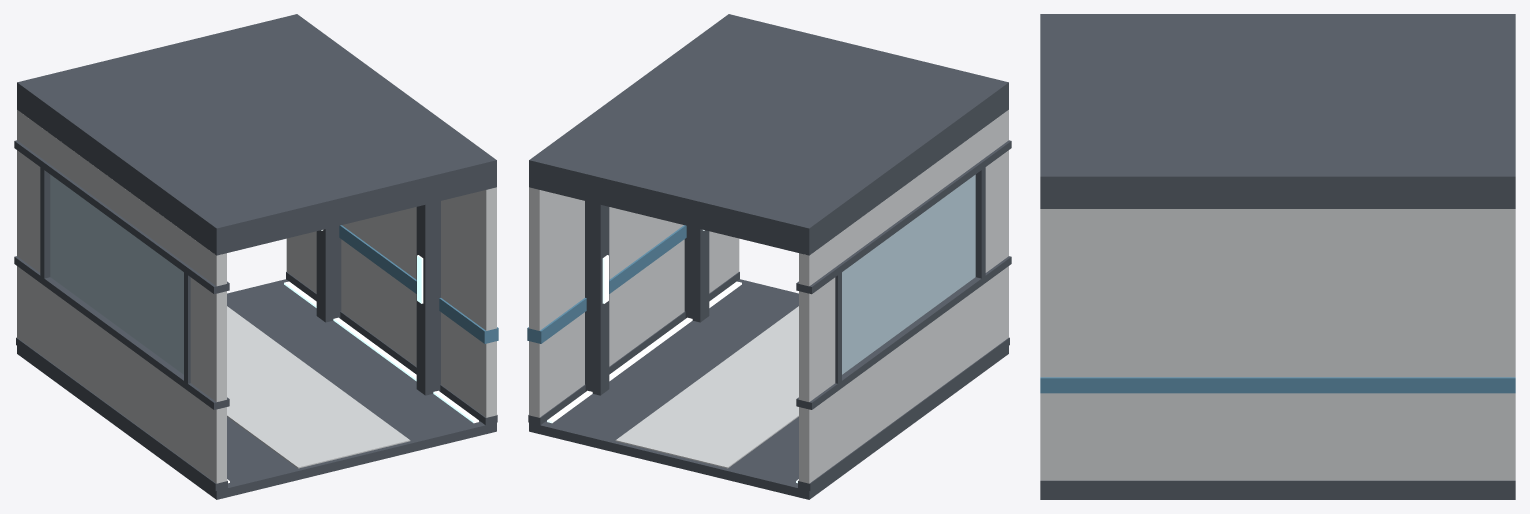
Rendered from spaceship-deck-kit-corridor-window-423a1226__12552.glb.
3 views of the same model, side by side, from view 1: azimuth 30°, elevation 25°; view 2: azimuth 150°, elevation 25°; view 3: azimuth 270°, elevation 25° (orthographic). The views are drawn at different scales.
Parts seen in each view (by area): view 1: corridor-window; view 2: corridor-window; view 3: corridor-window.
Boxes of the visible parts, x1=… form: corridor-window: x1=14, y1=14, x2=498, y2=499; corridor-window: x1=527, y1=14, x2=1011, y2=499; corridor-window: x1=1040, y1=14, x2=1515, y2=499.
Bounding box in the file's own units: 3.29 × 3 × 4.
